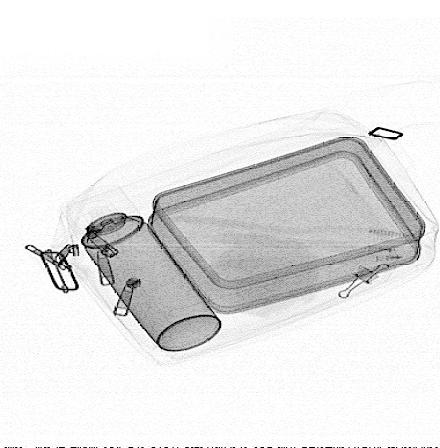Sprayer: (57, 183, 221, 352)
